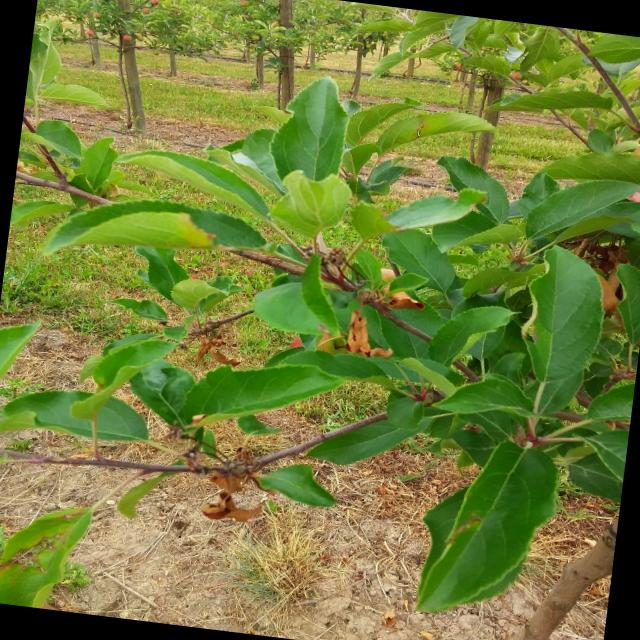-FireBlight-: (200, 464, 268, 534), (341, 312, 394, 360), (385, 294, 424, 314)
